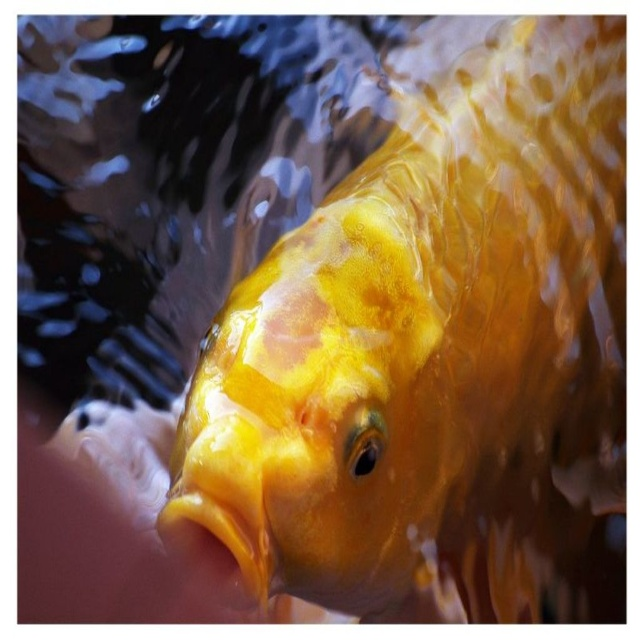Goldfish: (139, 34, 618, 640)
